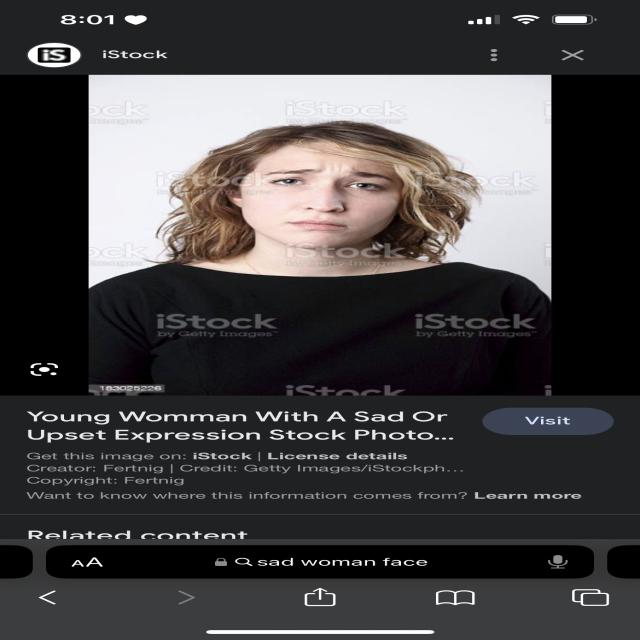sad: (222, 146, 436, 247)
